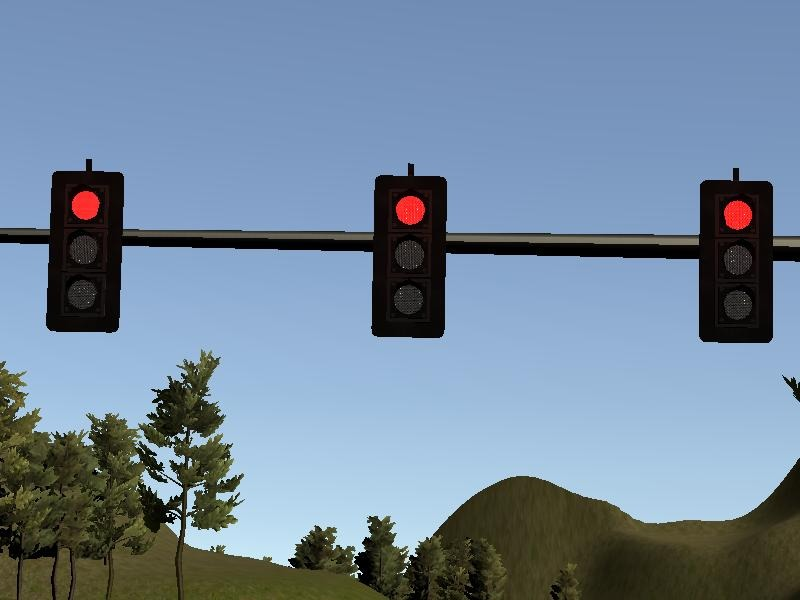red: (47, 172, 122, 331), (699, 182, 774, 341), (372, 176, 447, 335)
